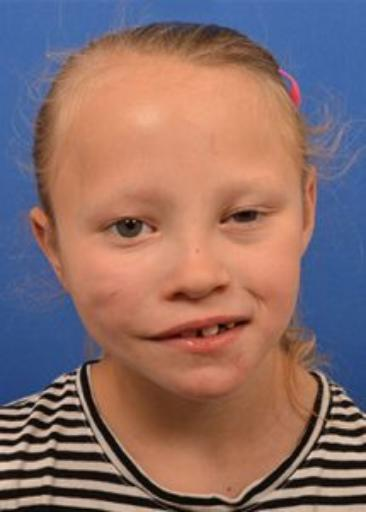left_eye: (220, 207, 274, 230)
left_lip_corner: (239, 314, 255, 332)
right_eye: (97, 217, 160, 244)
right_lip_corner: (139, 332, 153, 346)
